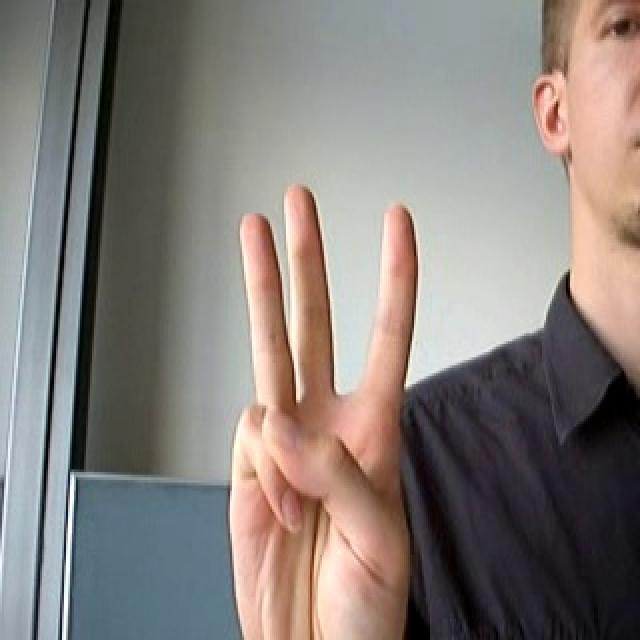W: (173, 157, 464, 617)
